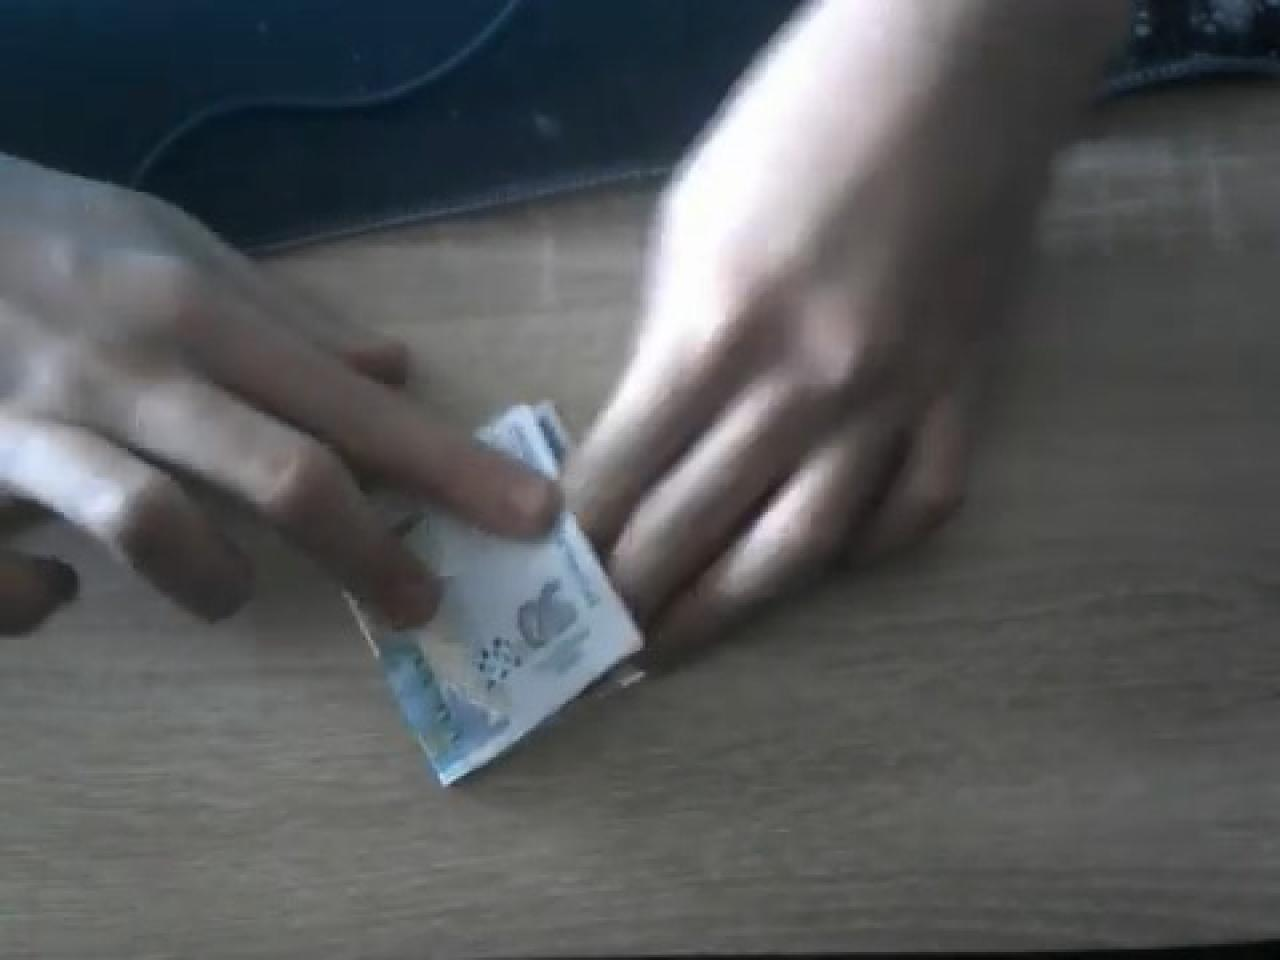20leva: (345, 394, 651, 790)
